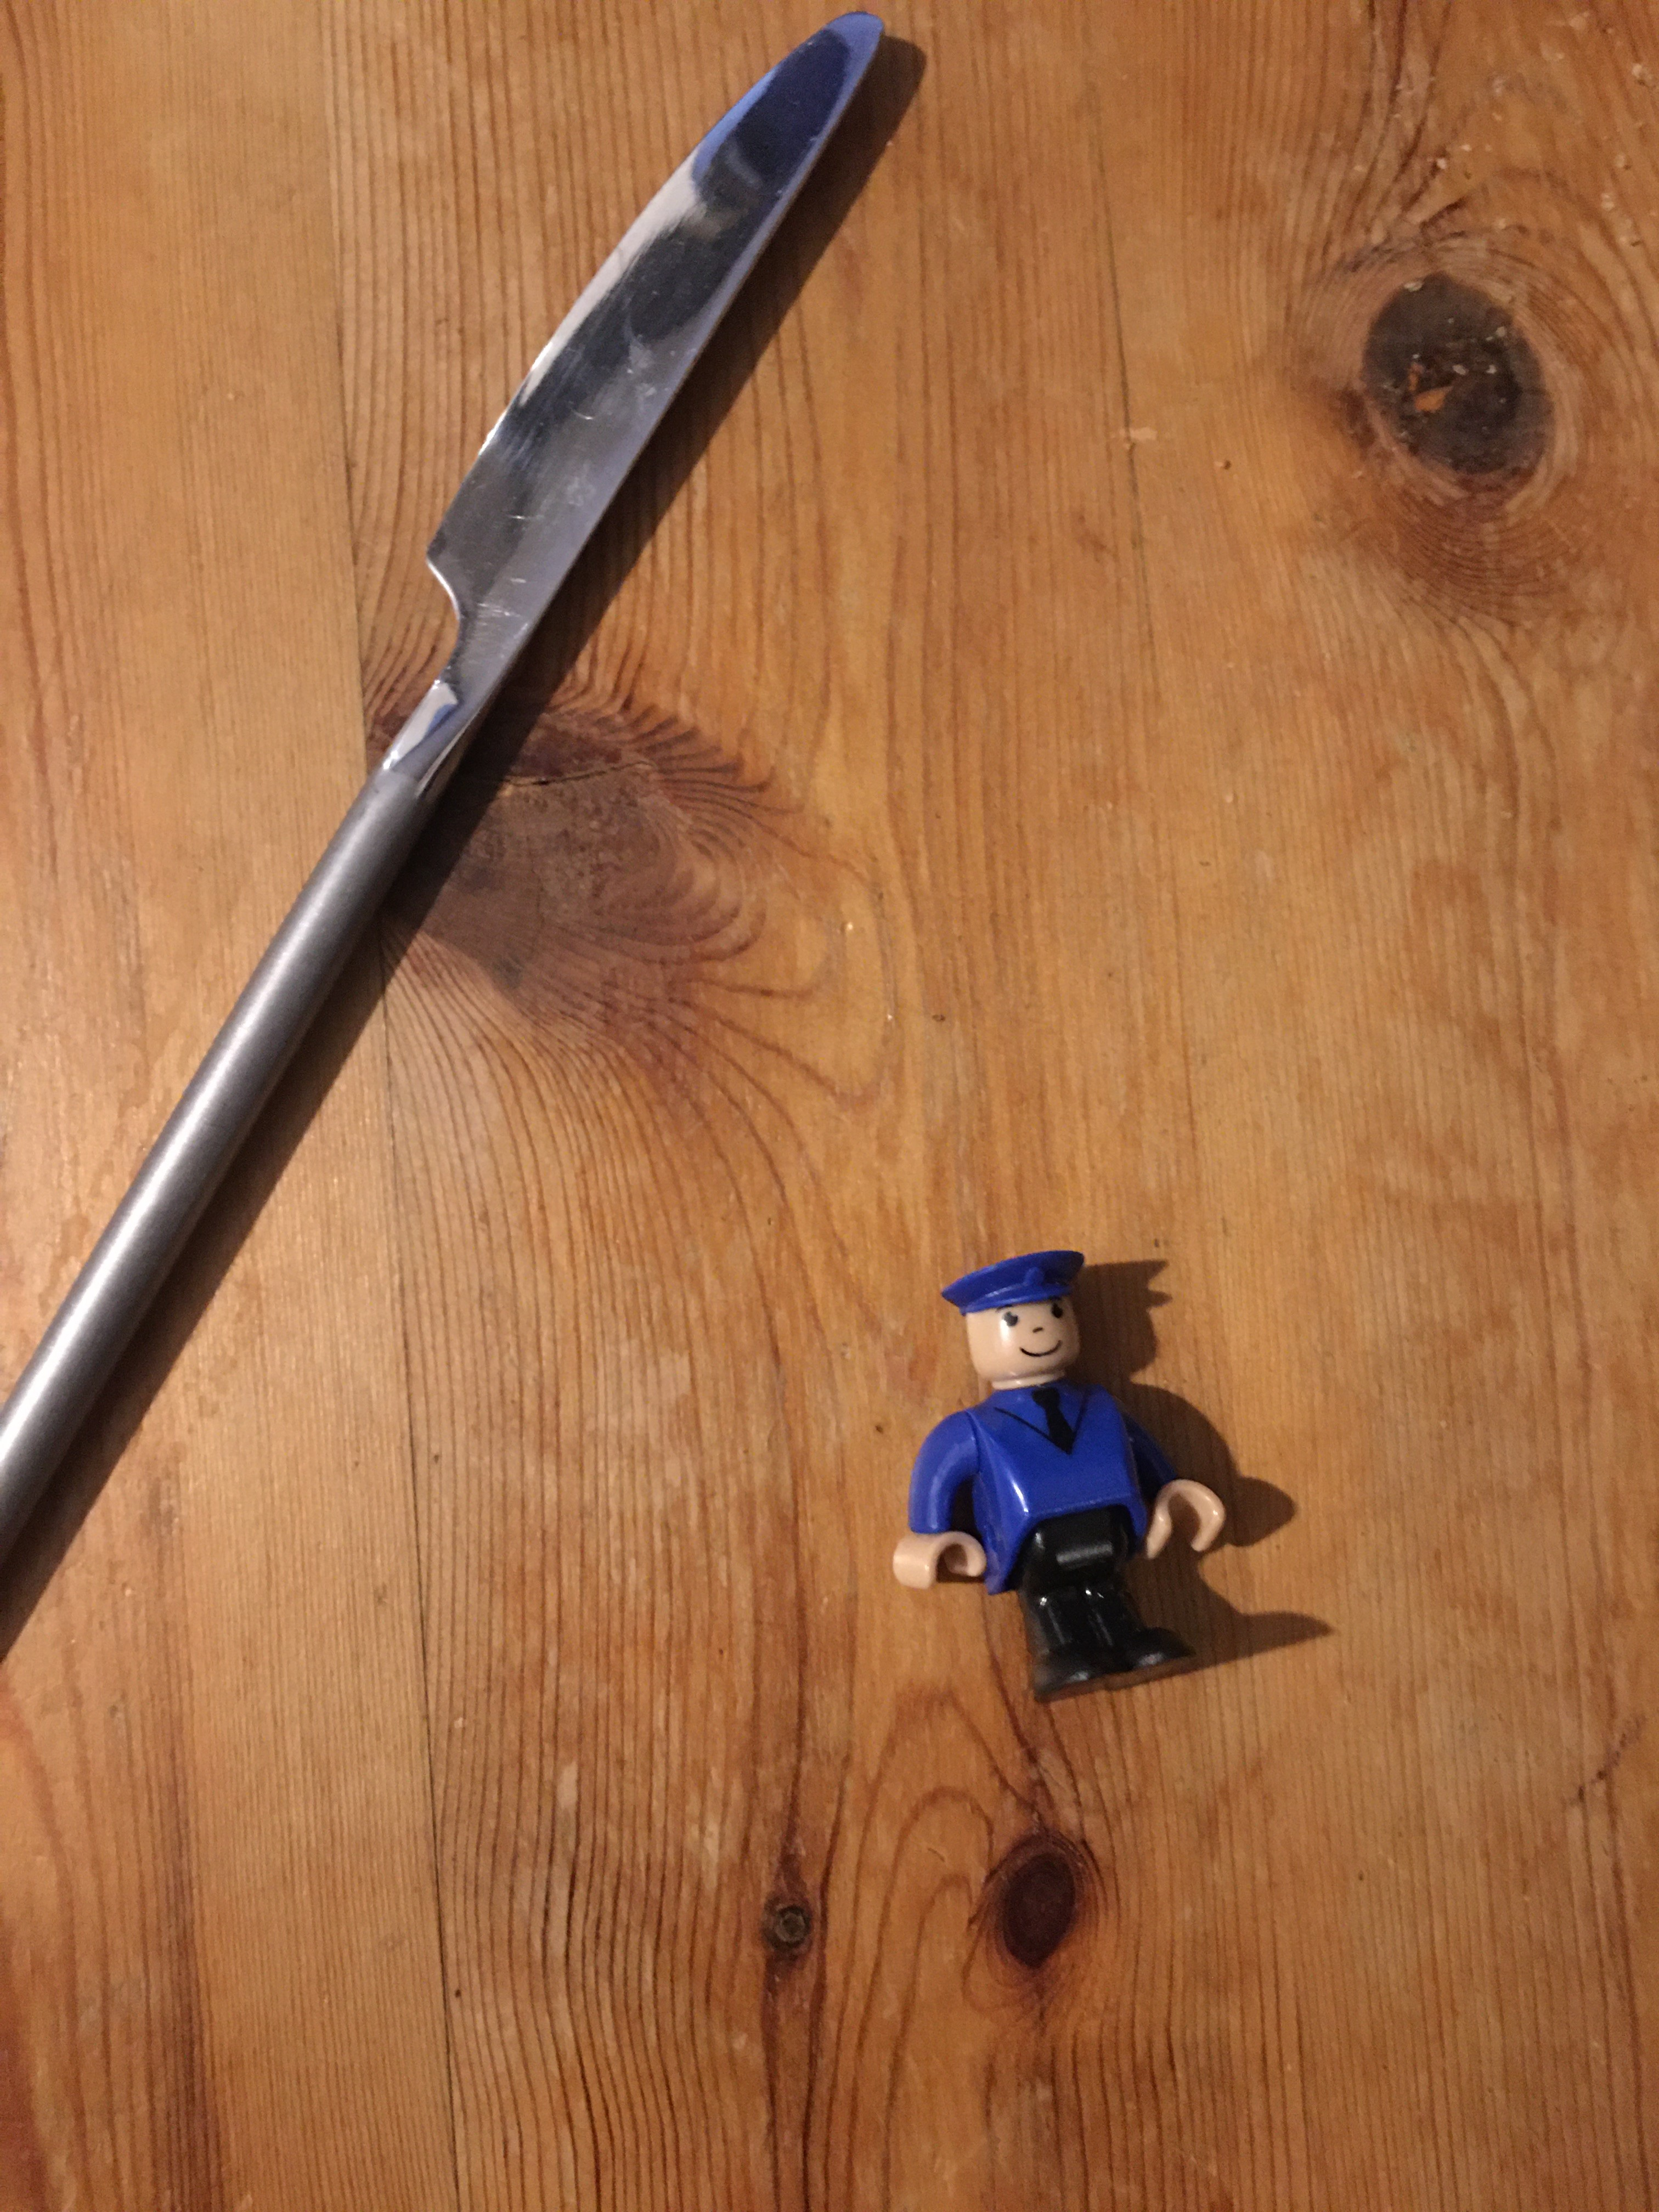person: (888, 1238, 1238, 1701)
